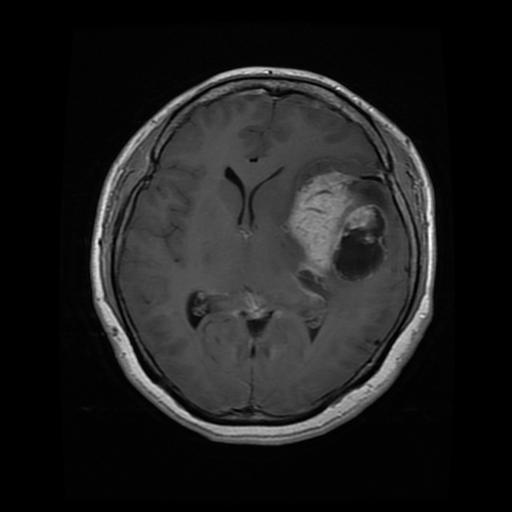Menigiomia_tumour: (284, 158, 393, 298)
